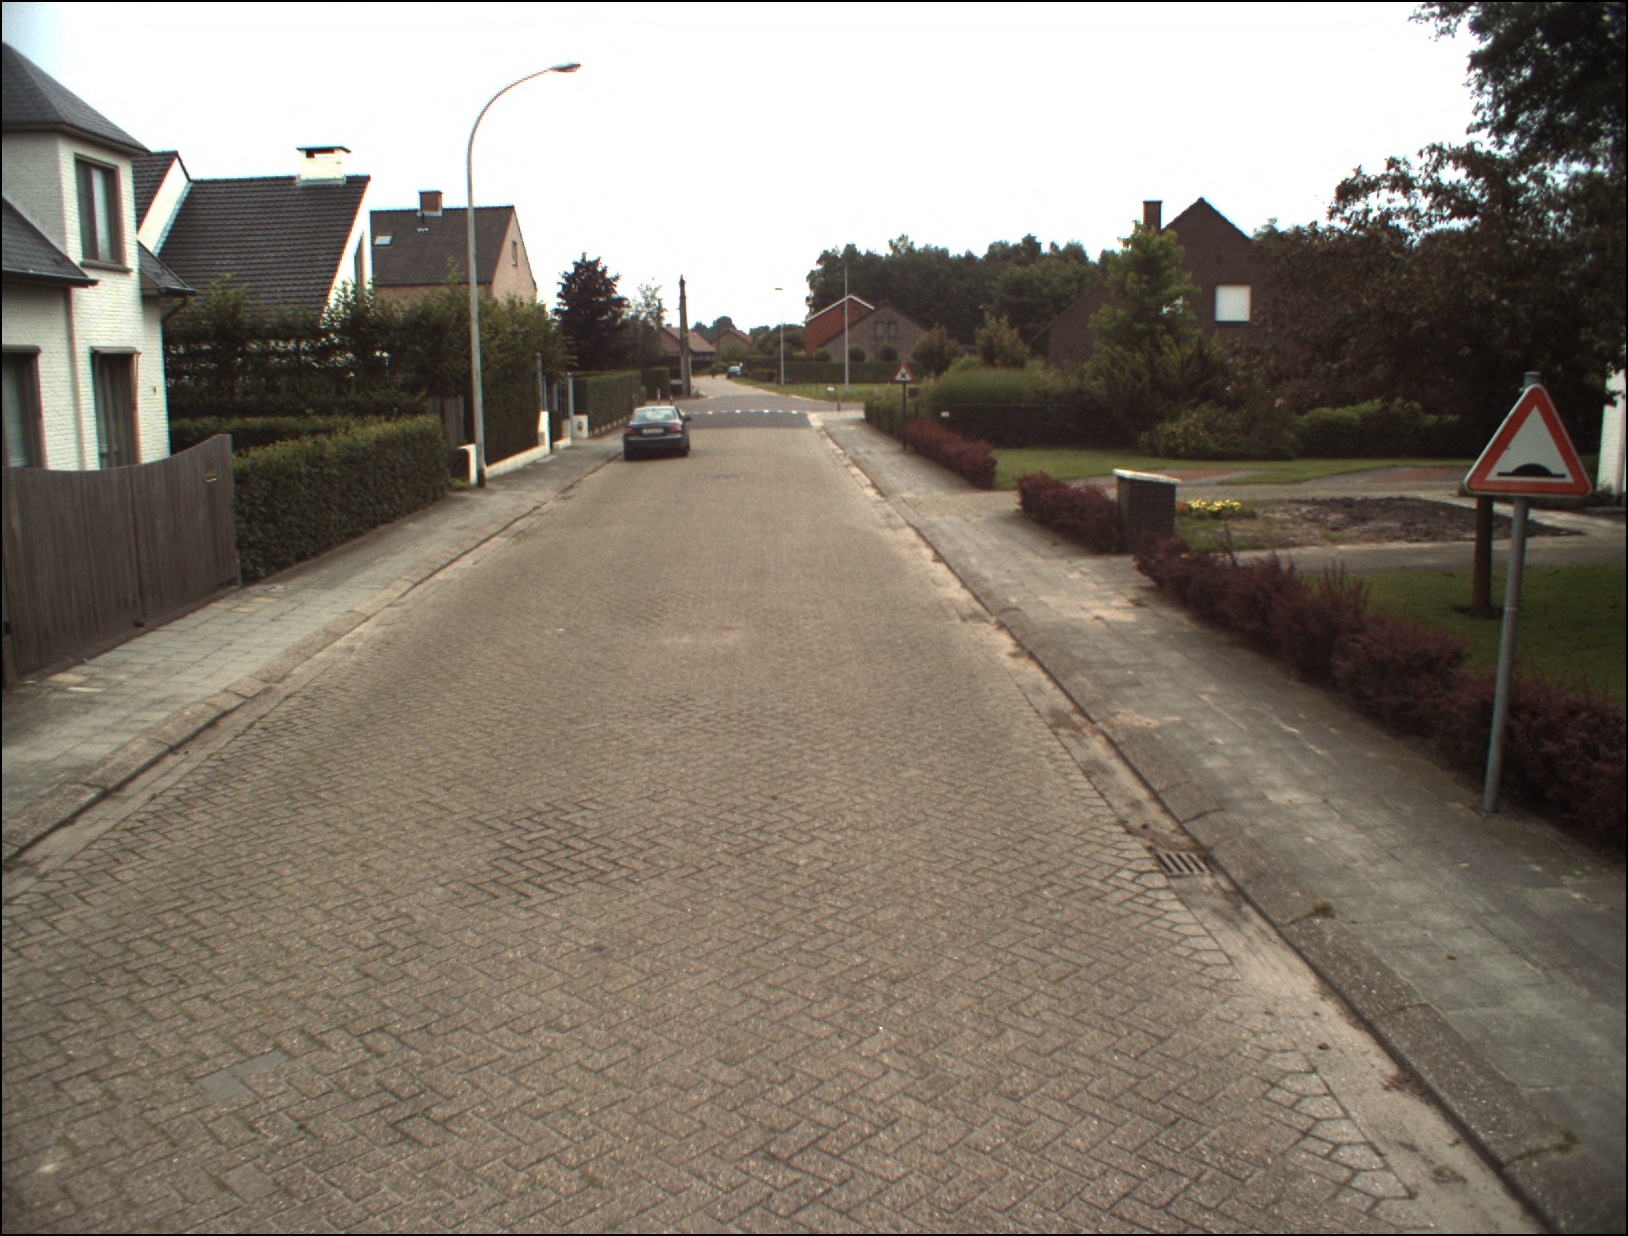speedbump: (1464, 379, 1593, 502)
